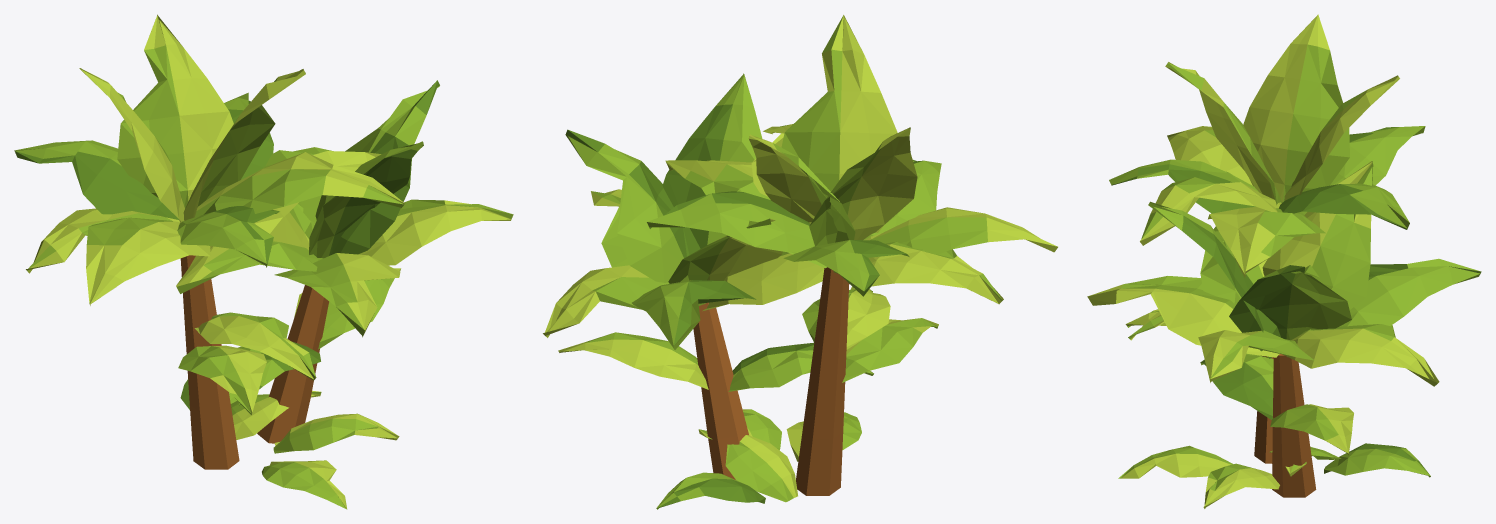
The model's file is nmg_plant_c.glb.
3 views of the same model, side by side, from view 1: azimuth 30°, elevation 25°; view 2: azimuth 150°, elevation 25°; view 3: azimuth 270°, elevation 25° (orthographic). The views are drawn at different scales.
Parts seen in each view (by area): view 1: nmg_plant_c; view 2: nmg_plant_c; view 3: nmg_plant_c.
Boxes of the visible parts, x1,y1,x2,y2 form: nmg_plant_c: (14,14,513,509); nmg_plant_c: (543,15,1057,509); nmg_plant_c: (1087,14,1481,508).
Bounding box in the file's own units: 1.13 × 1.02 × 0.8897.
